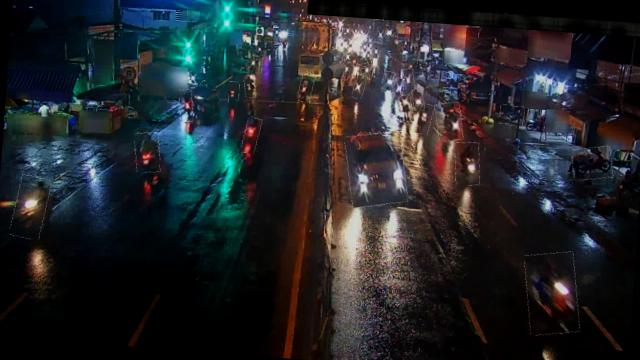Bike: (520, 250, 581, 337), (10, 174, 49, 240), (571, 144, 613, 182), (452, 140, 480, 185), (132, 131, 161, 173), (434, 102, 464, 142), (242, 116, 260, 154), (414, 102, 433, 134), (498, 104, 524, 126), (178, 89, 194, 122), (396, 95, 414, 123), (298, 74, 314, 102), (351, 74, 366, 100), (411, 86, 425, 111), (402, 68, 416, 92), (242, 75, 256, 99), (228, 81, 240, 105), (381, 71, 395, 90), (393, 78, 404, 98)
Car: (343, 130, 409, 208)
